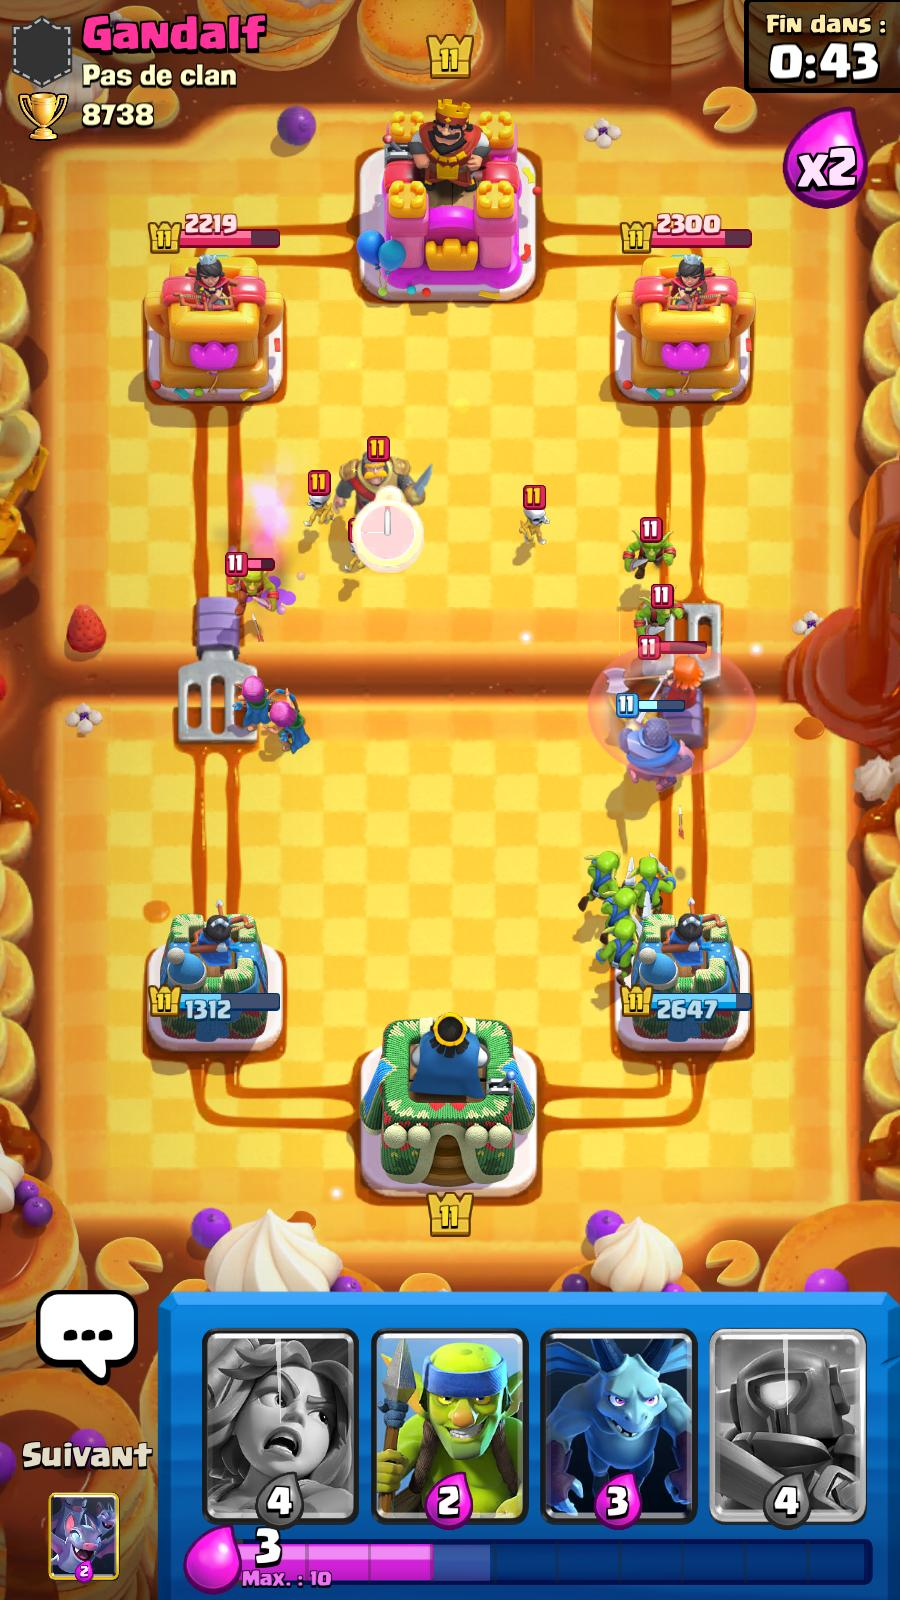archere: (270, 675, 322, 754), (229, 674, 280, 735)
chevalier: (330, 423, 451, 521), (602, 700, 702, 789)
gobelin: (215, 546, 300, 619), (615, 507, 687, 588), (614, 584, 702, 641), (575, 834, 631, 910), (595, 923, 659, 980), (596, 878, 654, 941), (627, 853, 679, 921)
squelette: (499, 471, 571, 556), (295, 473, 338, 537), (344, 516, 386, 584), (511, 496, 555, 551)
valkyrie: (640, 640, 726, 726)
